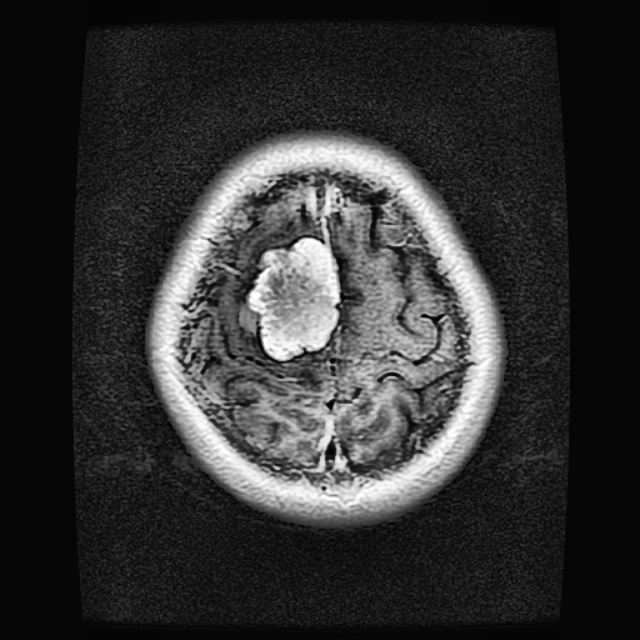Pituitary: (245, 238, 340, 360)
